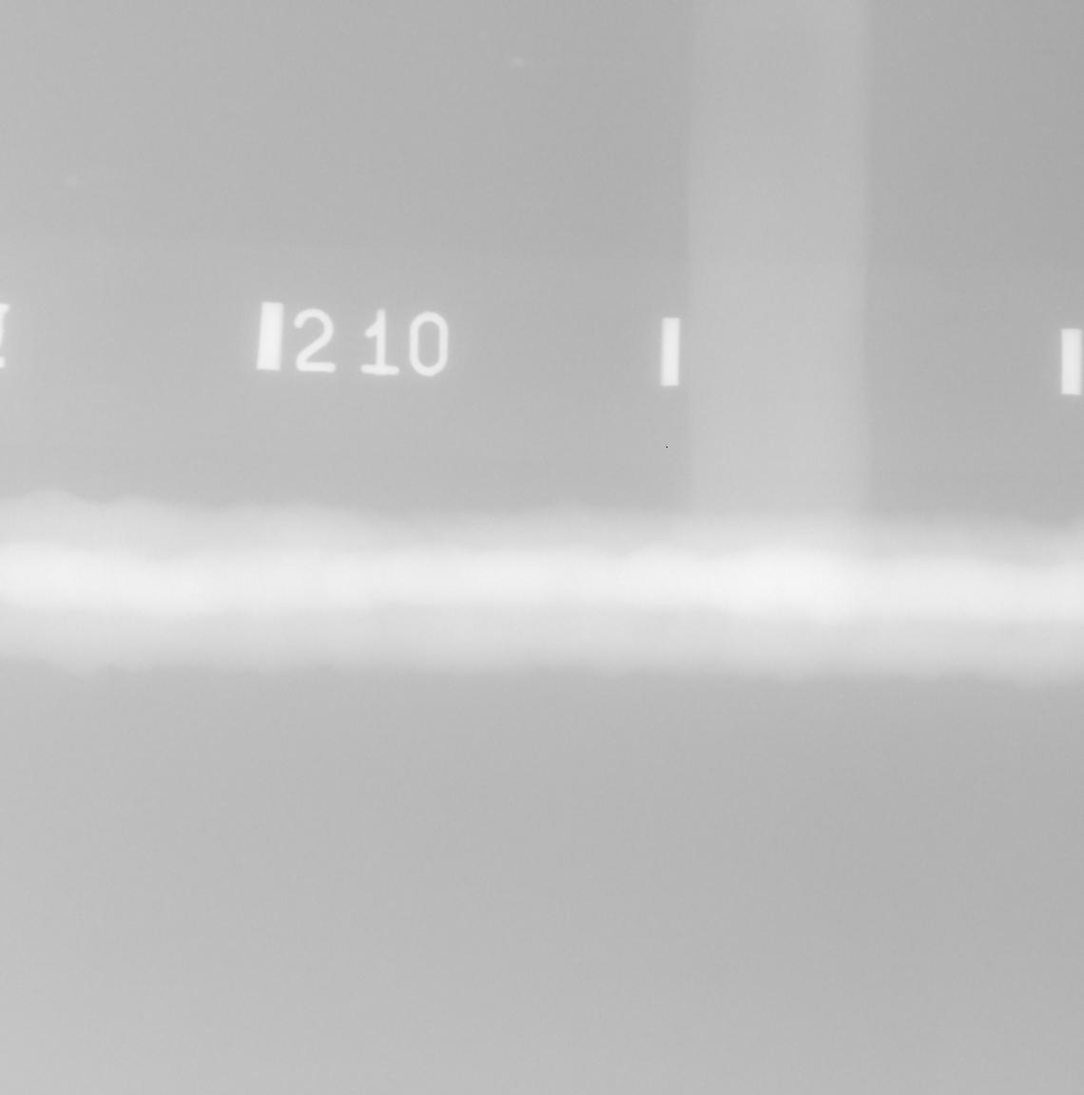Inclusion: (1059, 559, 1066, 564), (1043, 563, 1048, 567), (1052, 563, 1056, 567), (1048, 552, 1053, 555), (1054, 555, 1058, 557)
